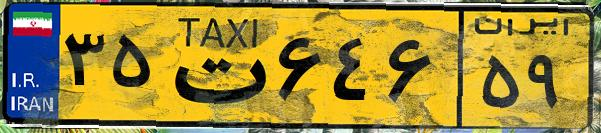3: (57, 26, 110, 100)
4: (330, 28, 385, 110)
5: (475, 38, 525, 113), (110, 28, 158, 98)
6: (270, 28, 330, 110), (385, 28, 445, 110)
9: (525, 38, 570, 115)
ت: (158, 12, 270, 120)
